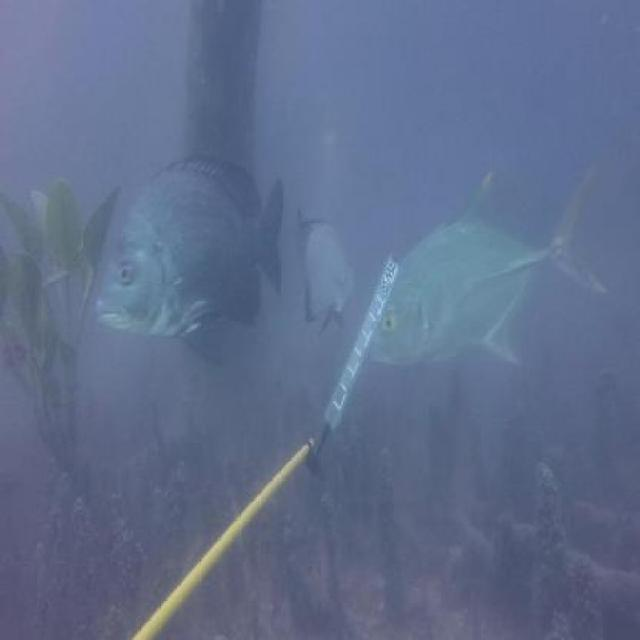Caranx: (368, 158, 610, 376)
acanthopagrus_palmaris: (91, 150, 287, 364), (293, 199, 359, 336)
